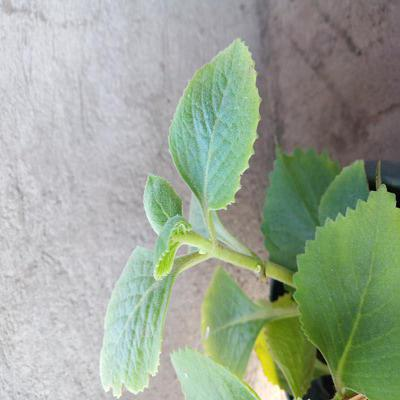Oregano: (160, 161, 400, 399)
